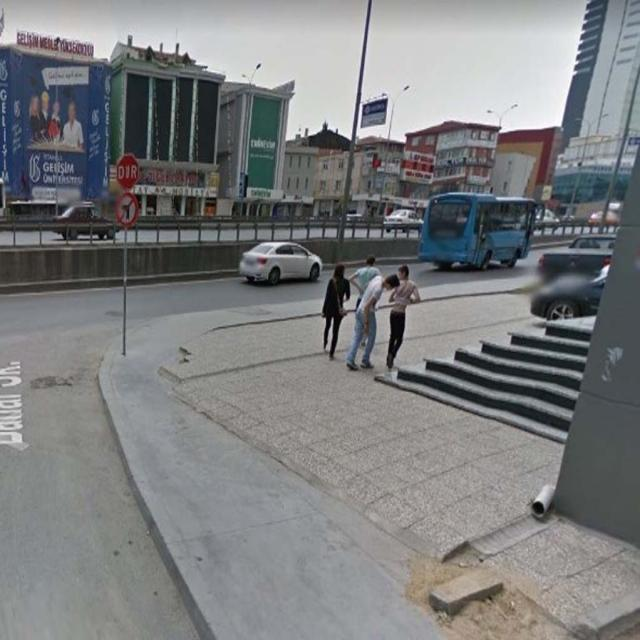dur: (116, 154, 140, 189)
soladonulmez: (115, 192, 138, 226)
